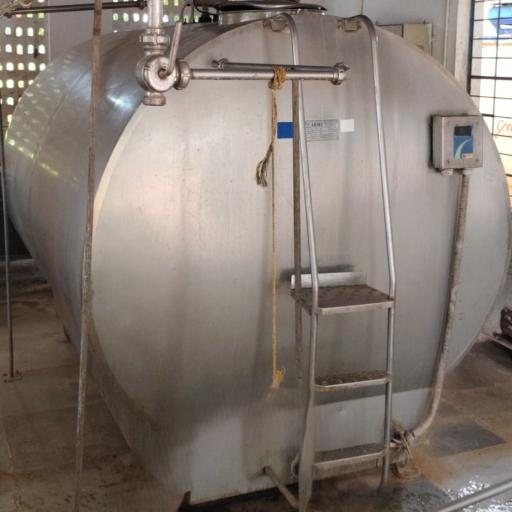silo: (3, 1, 511, 502)
